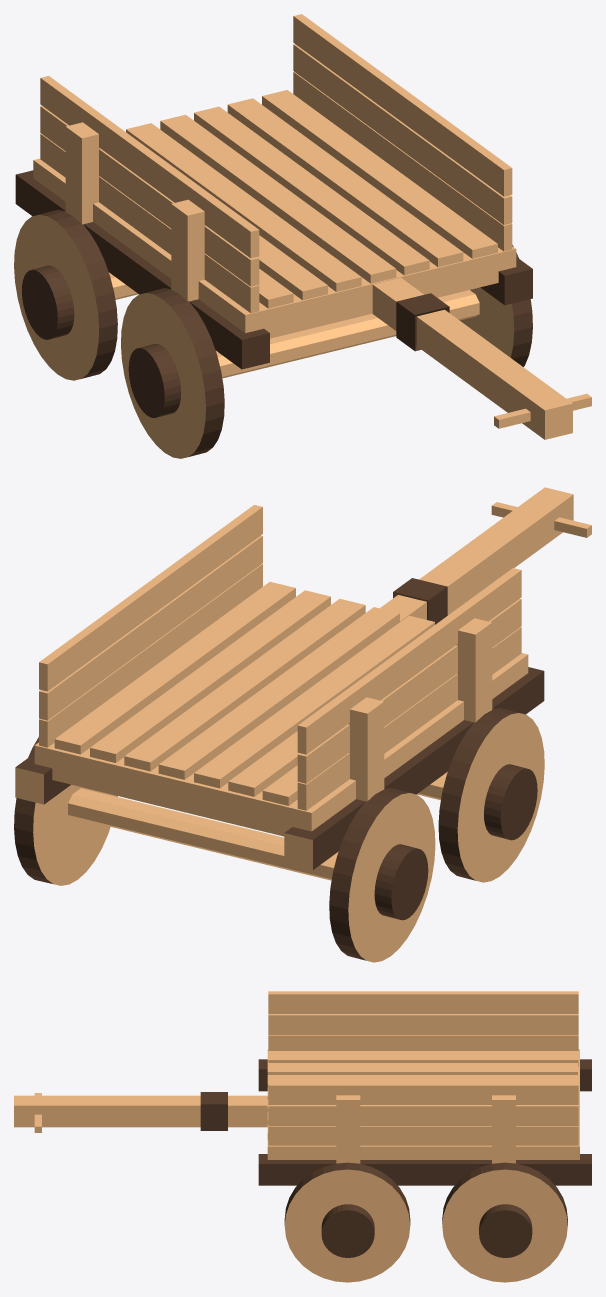
Rendered from cart_Rig_Simple_v2.fbx.
3 renders of one model, top to bottom at view 1: azimuth 30°, elevation 25°; view 2: azimuth 150°, elevation 25°; view 3: azimuth 270°, elevation 25°, orthographic. The views are drawn at different scales.
Parts seen in each view (by area): view 1: Body, Wheel.Bk.R, Wheel.Ft.R, Wheel.Ft.L; view 2: Body, Wheel.Ft.R, Wheel.Bk.R, Wheel.Bk.L; view 3: Body, Wheel.Ft.L, Wheel.Bk.L.
Boxes of the visible parts, x1,y1,x2,y2 form: Body: [15, 14, 591, 439]; Wheel.Bk.R: [14, 210, 117, 380]; Wheel.Ft.R: [121, 288, 224, 458]; Wheel.Ft.L: [460, 245, 532, 366]; Body: [15, 487, 591, 880]; Wheel.Ft.R: [438, 708, 544, 882]; Wheel.Bk.R: [329, 788, 435, 962]; Wheel.Bk.L: [14, 737, 117, 885]; Body: [14, 991, 591, 1185]; Wheel.Ft.L: [284, 1162, 410, 1282]; Wheel.Bk.L: [442, 1162, 567, 1282].
Bounding box in the file's own units: 257 × 171 × 481.
